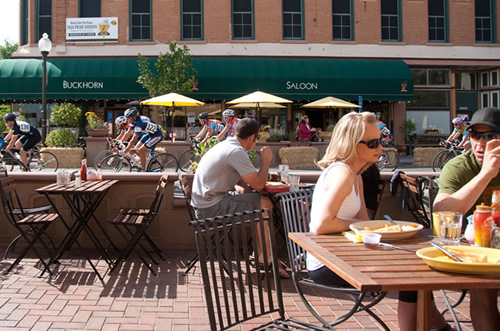bikerider: (92, 106, 180, 177), (182, 104, 256, 170), (1, 108, 59, 170)
